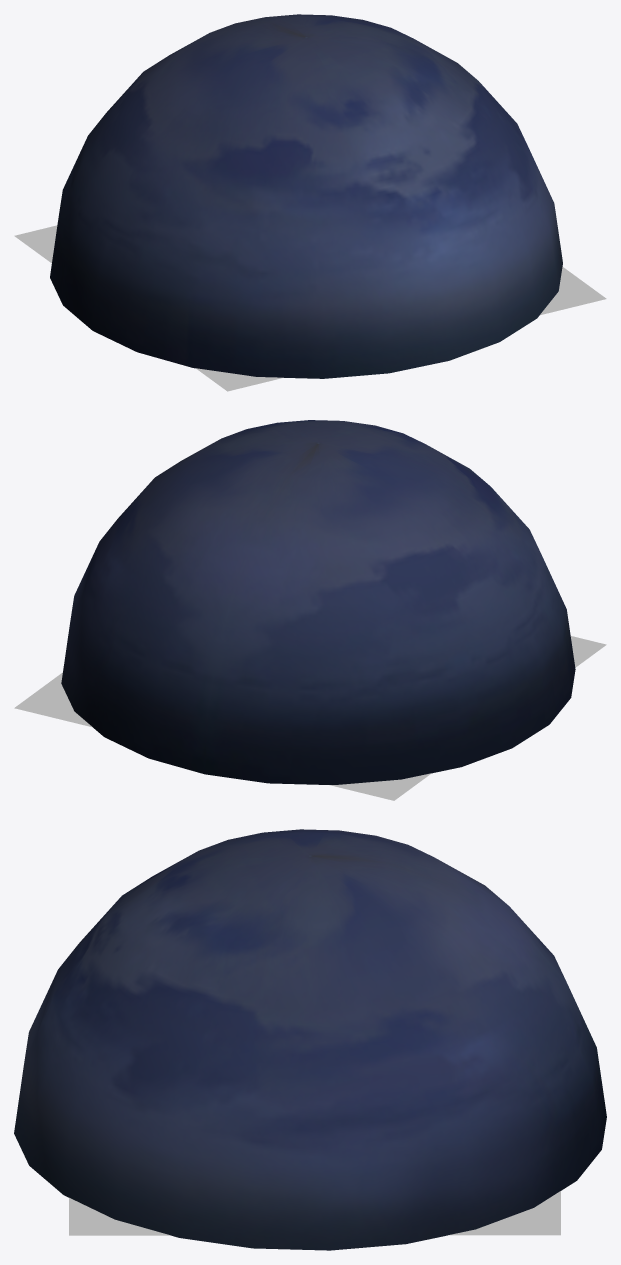
The model's file is Scene_Datang_01.FBX.
3 views of the same model, one above another, from view 1: azimuth 30°, elevation 25°; view 2: azimuth 150°, elevation 25°; view 3: azimuth 270°, elevation 25° (orthographic). The views are drawn at different scales.
Visible parts, largest first — view 1: sky001, floor_01_2UV; view 2: sky001, floor_01_2UV; view 3: sky001, floor_01_2UV.
Part boxes in pixels (x1,y1,x2,y2): sky001: (50,14,562,378); floor_01_2UV: (14,225,606,391); sky001: (61,420,575,784); floor_01_2UV: (14,636,606,800); sky001: (14,829,606,1250); floor_01_2UV: (69,1191,560,1235).
Bounding box in the file's own units: 167 × 84.98 × 167.
